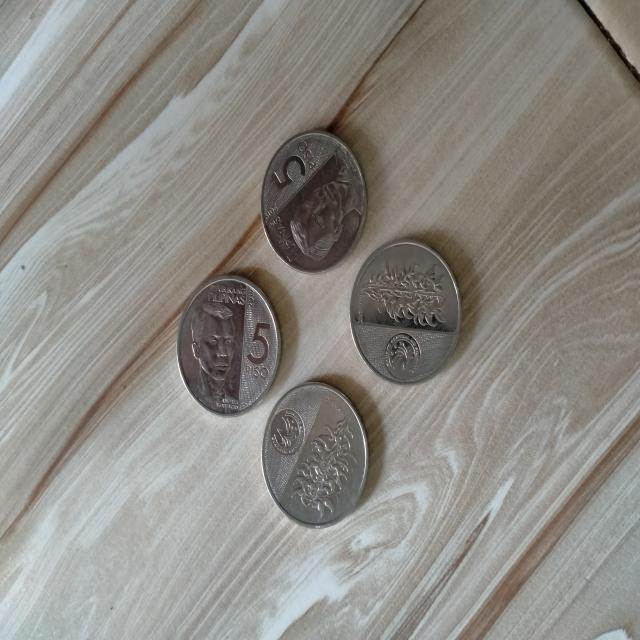5_New_Back: (288, 409, 361, 524), (351, 257, 460, 333)
5_New_Front: (261, 137, 319, 190), (238, 312, 276, 385)
